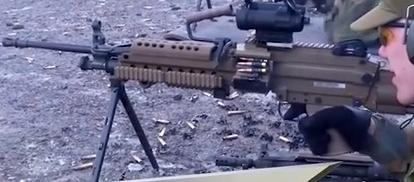gun: (1, 0, 414, 182)
